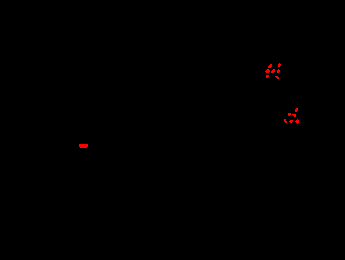Target: (79, 144, 88, 148), (265, 69, 270, 73), (295, 119, 299, 124), (268, 64, 272, 68), (271, 69, 275, 73), (278, 63, 281, 67), (277, 69, 280, 73), (275, 76, 279, 79), (295, 108, 298, 112), (292, 114, 296, 117), (284, 119, 287, 123), (289, 120, 293, 123), (266, 75, 269, 78), (288, 113, 291, 116)
